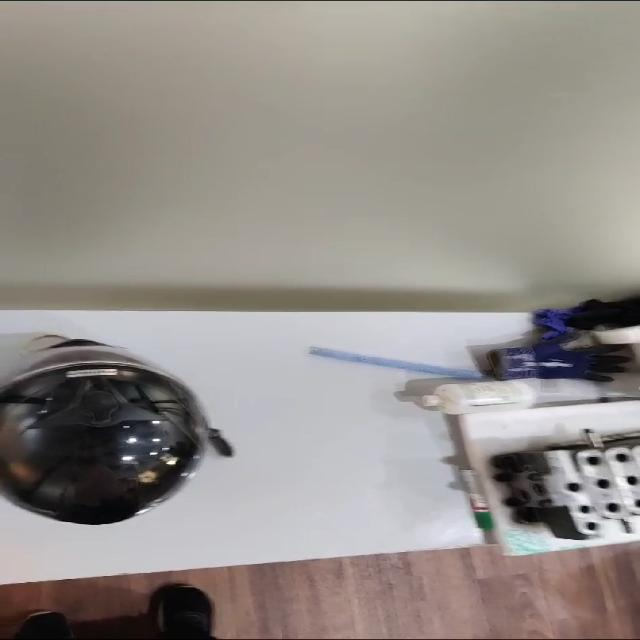helmet: (0, 335, 231, 525)
